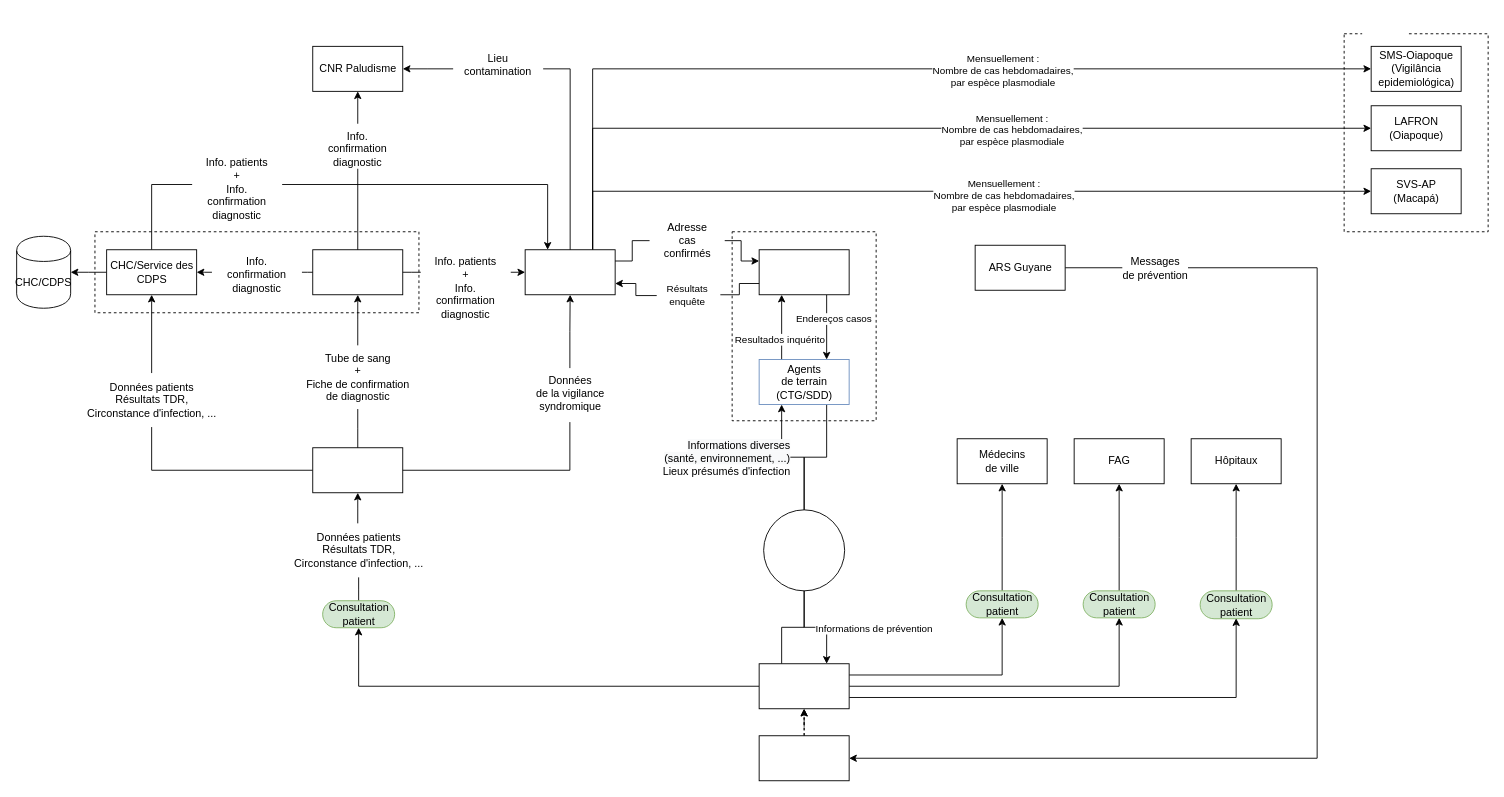
The diagram is 1504 pixels wide and 797 high, and some of its shapes have lost their labels. The shapes that lost their labels are listed below. From the top down, each one's box as (x1, y1, x2, y2) in pixels, then its label:
(1362, 15, 1407, 42): Brésil
(312, 249, 403, 295): CHC/LHUPM
(524, 249, 615, 295): SP-Fr / CIRE Guyane
(758, 249, 849, 295): CTG/SDD
(312, 447, 403, 493): CDPS
(763, 509, 845, 591): Pulvérisation insecticides Destruction gîtes larvaires Enquête Prévention
(758, 663, 849, 709): Indivídu avec symptômes
(758, 735, 849, 781): Individu
